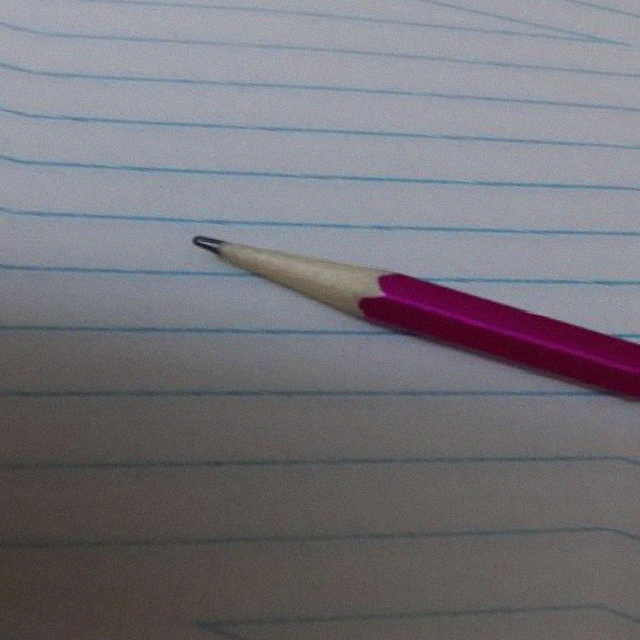pencil: (187, 222, 409, 315)
